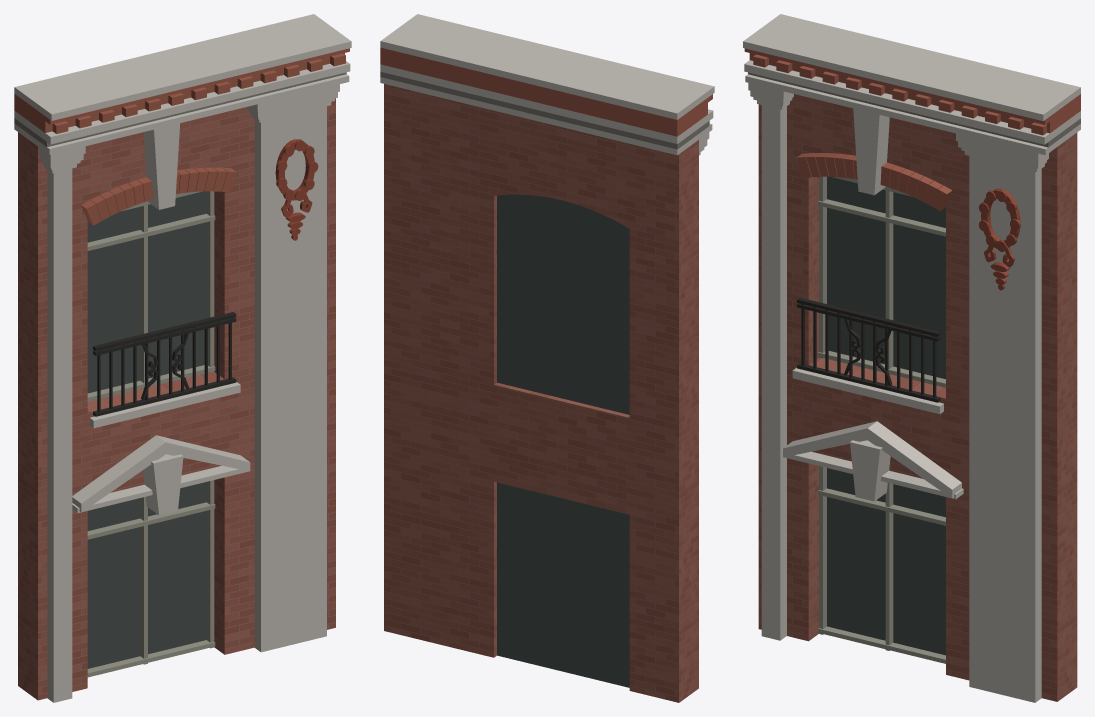
Rendered from huangpu-beijing-apartments-pilaster-garland-web.glb.
3 views of the same model, side by side, from view 1: azimuth 30°, elevation 25°; view 2: azimuth 150°, elevation 25°; view 3: azimuth 330°, elevation 25° (orthographic).
Visible parts, largest first — view 1: 北京公寓街面椭圆花饰壁柱与双层窗楣; view 2: 北京公寓街面椭圆花饰壁柱与双层窗楣; view 3: 北京公寓街面椭圆花饰壁柱与双层窗楣.
Boxes of the visible parts, bbox=[...] form: 北京公寓街面椭圆花饰壁柱与双层窗楣: bbox=[14, 14, 351, 702]; 北京公寓街面椭圆花饰壁柱与双层窗楣: bbox=[380, 14, 714, 702]; 北京公寓街面椭圆花饰壁柱与双层窗楣: bbox=[743, 14, 1080, 702].
Size of the model in its own units: 3.37 by 6.41 by 0.728.
Materials: 8 (1 with a texture image).
